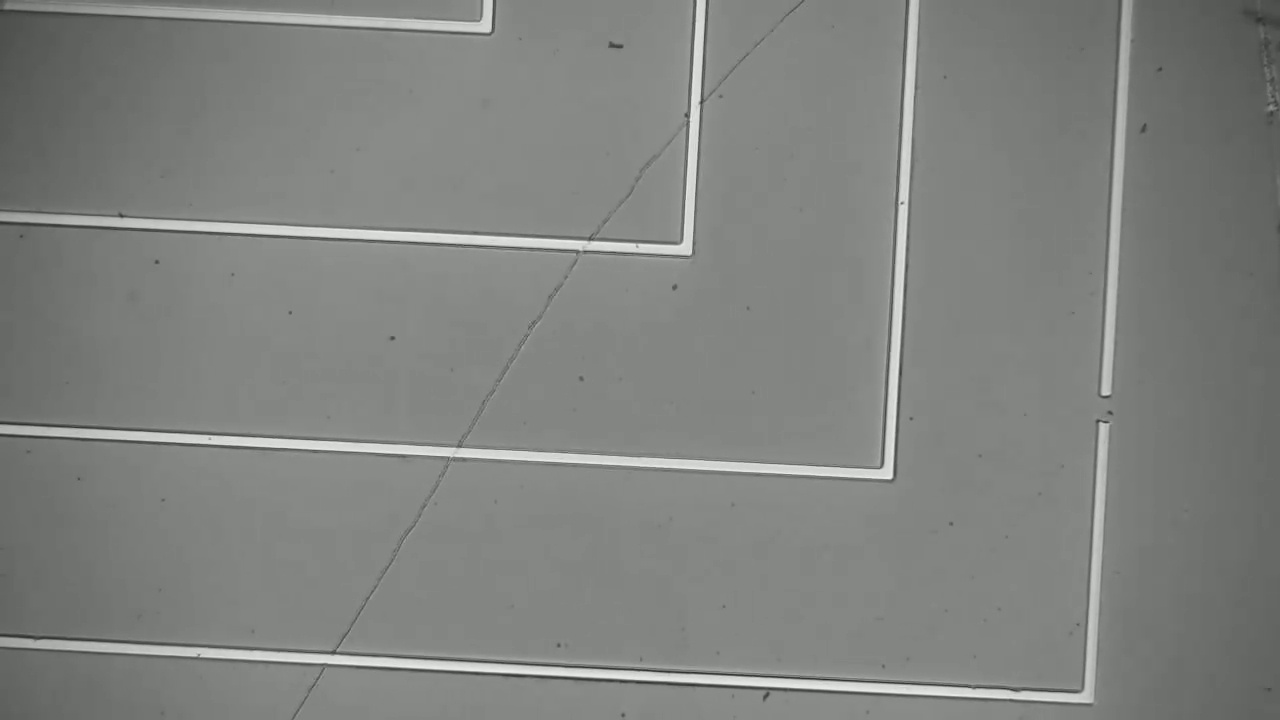open: (1077, 372, 1129, 439)
scratch: (285, 7, 799, 720), (1234, 1, 1279, 131)
